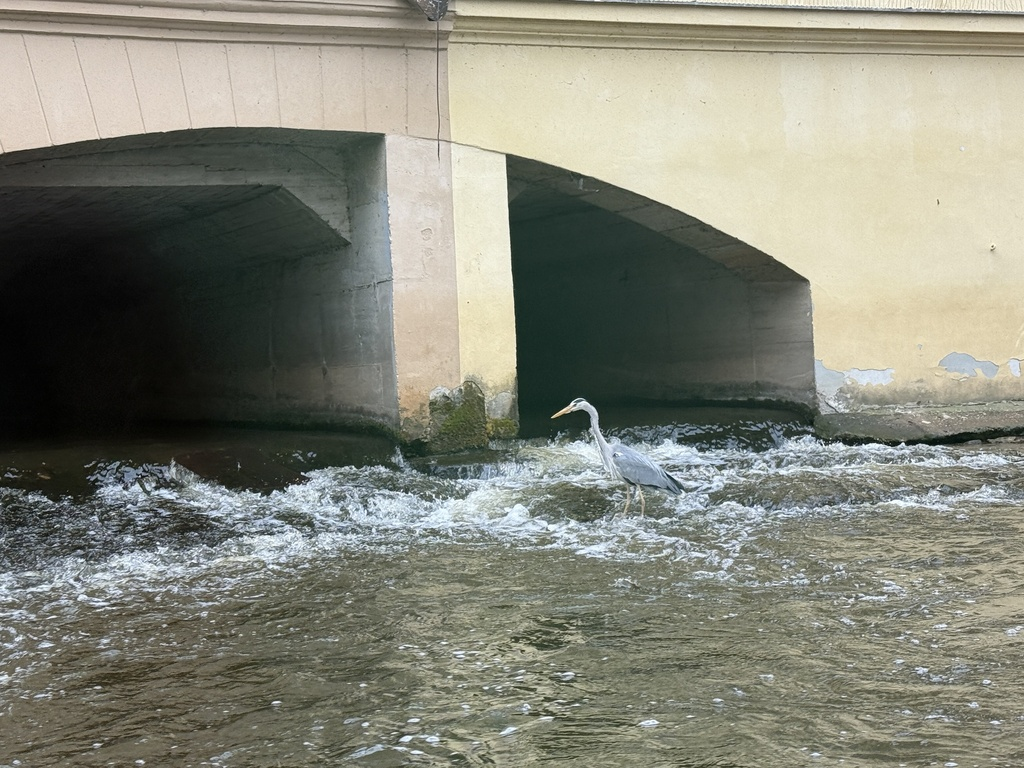heron: (552, 398, 684, 529)
